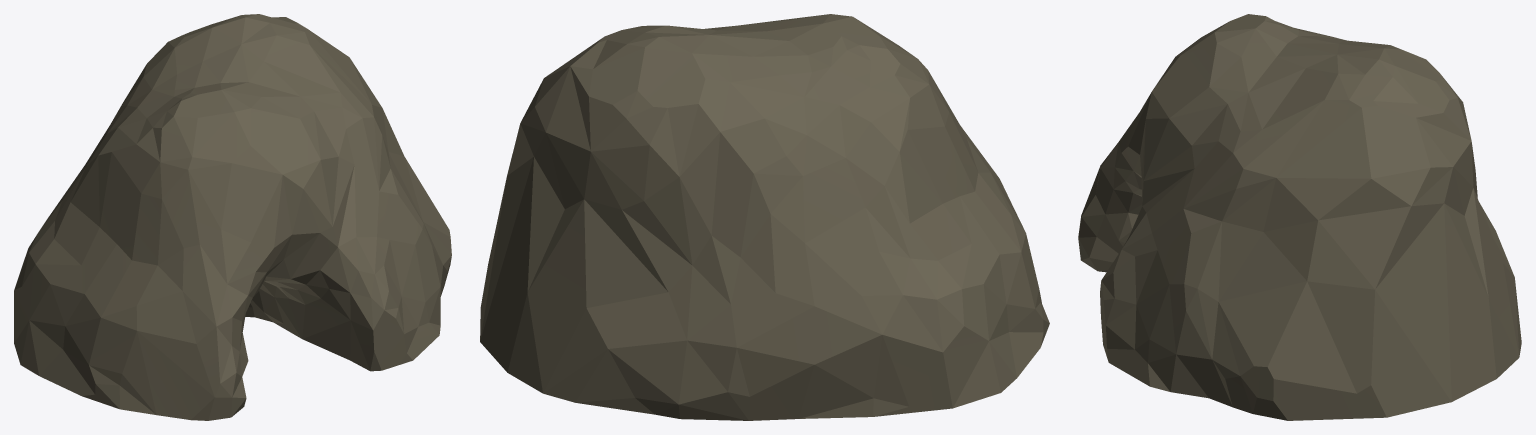
The model's file is Cave_10.fbx.
3 renders of one model, left to right at view 1: azimuth 30°, elevation 25°; view 2: azimuth 150°, elevation 25°; view 3: azimuth 270°, elevation 25°, orthographic. The views are drawn at different scales.
Parts seen in each view (by area): view 1: Cave_10_LOD0; view 2: Cave_10_LOD0; view 3: Cave_10_LOD0.
Part boxes in pixels (bbox=[...]): Cave_10_LOD0: bbox=[14, 14, 451, 420]; Cave_10_LOD0: bbox=[480, 14, 1049, 420]; Cave_10_LOD0: bbox=[1078, 14, 1521, 420].
Size of what is drawn, in the model's own units: 12.04 by 7.31 by 10.45.
